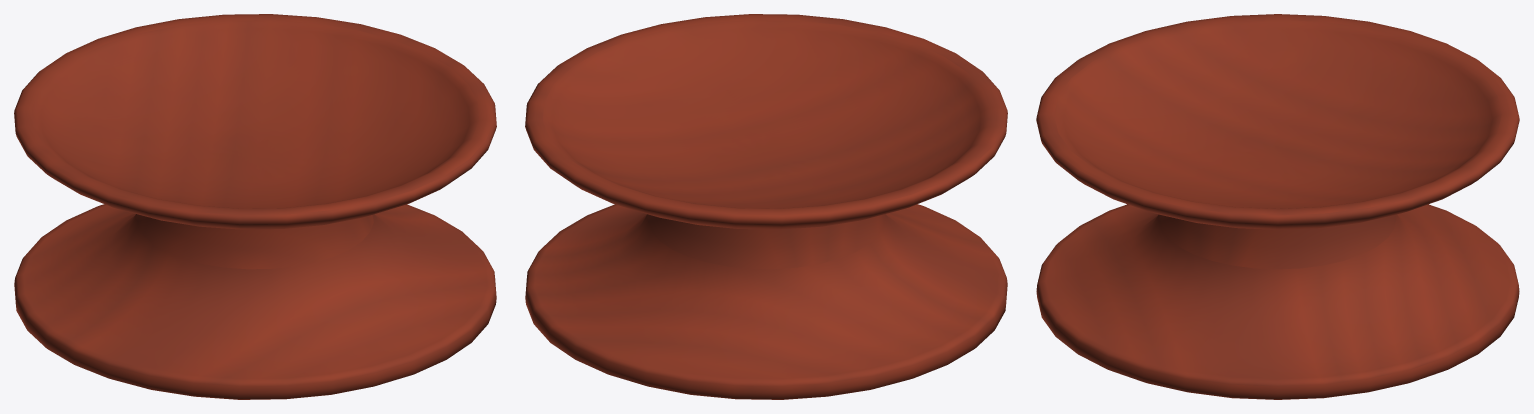
File: boul.fbx
3 renders of one model, left to right at view 1: azimuth 30°, elevation 25°; view 2: azimuth 150°, elevation 25°; view 3: azimuth 270°, elevation 25°, orthographic.
Visible parts, largest first — view 1: Cylinder.065; view 2: Cylinder.065; view 3: Cylinder.065.
Part boxes in pixels (x1,y1,x2,y2): Cylinder.065: [14, 14, 496, 399]; Cylinder.065: [525, 14, 1007, 399]; Cylinder.065: [1036, 14, 1519, 399].
Bounding box in the file's own units: 11.7 × 4.99 × 11.7.
